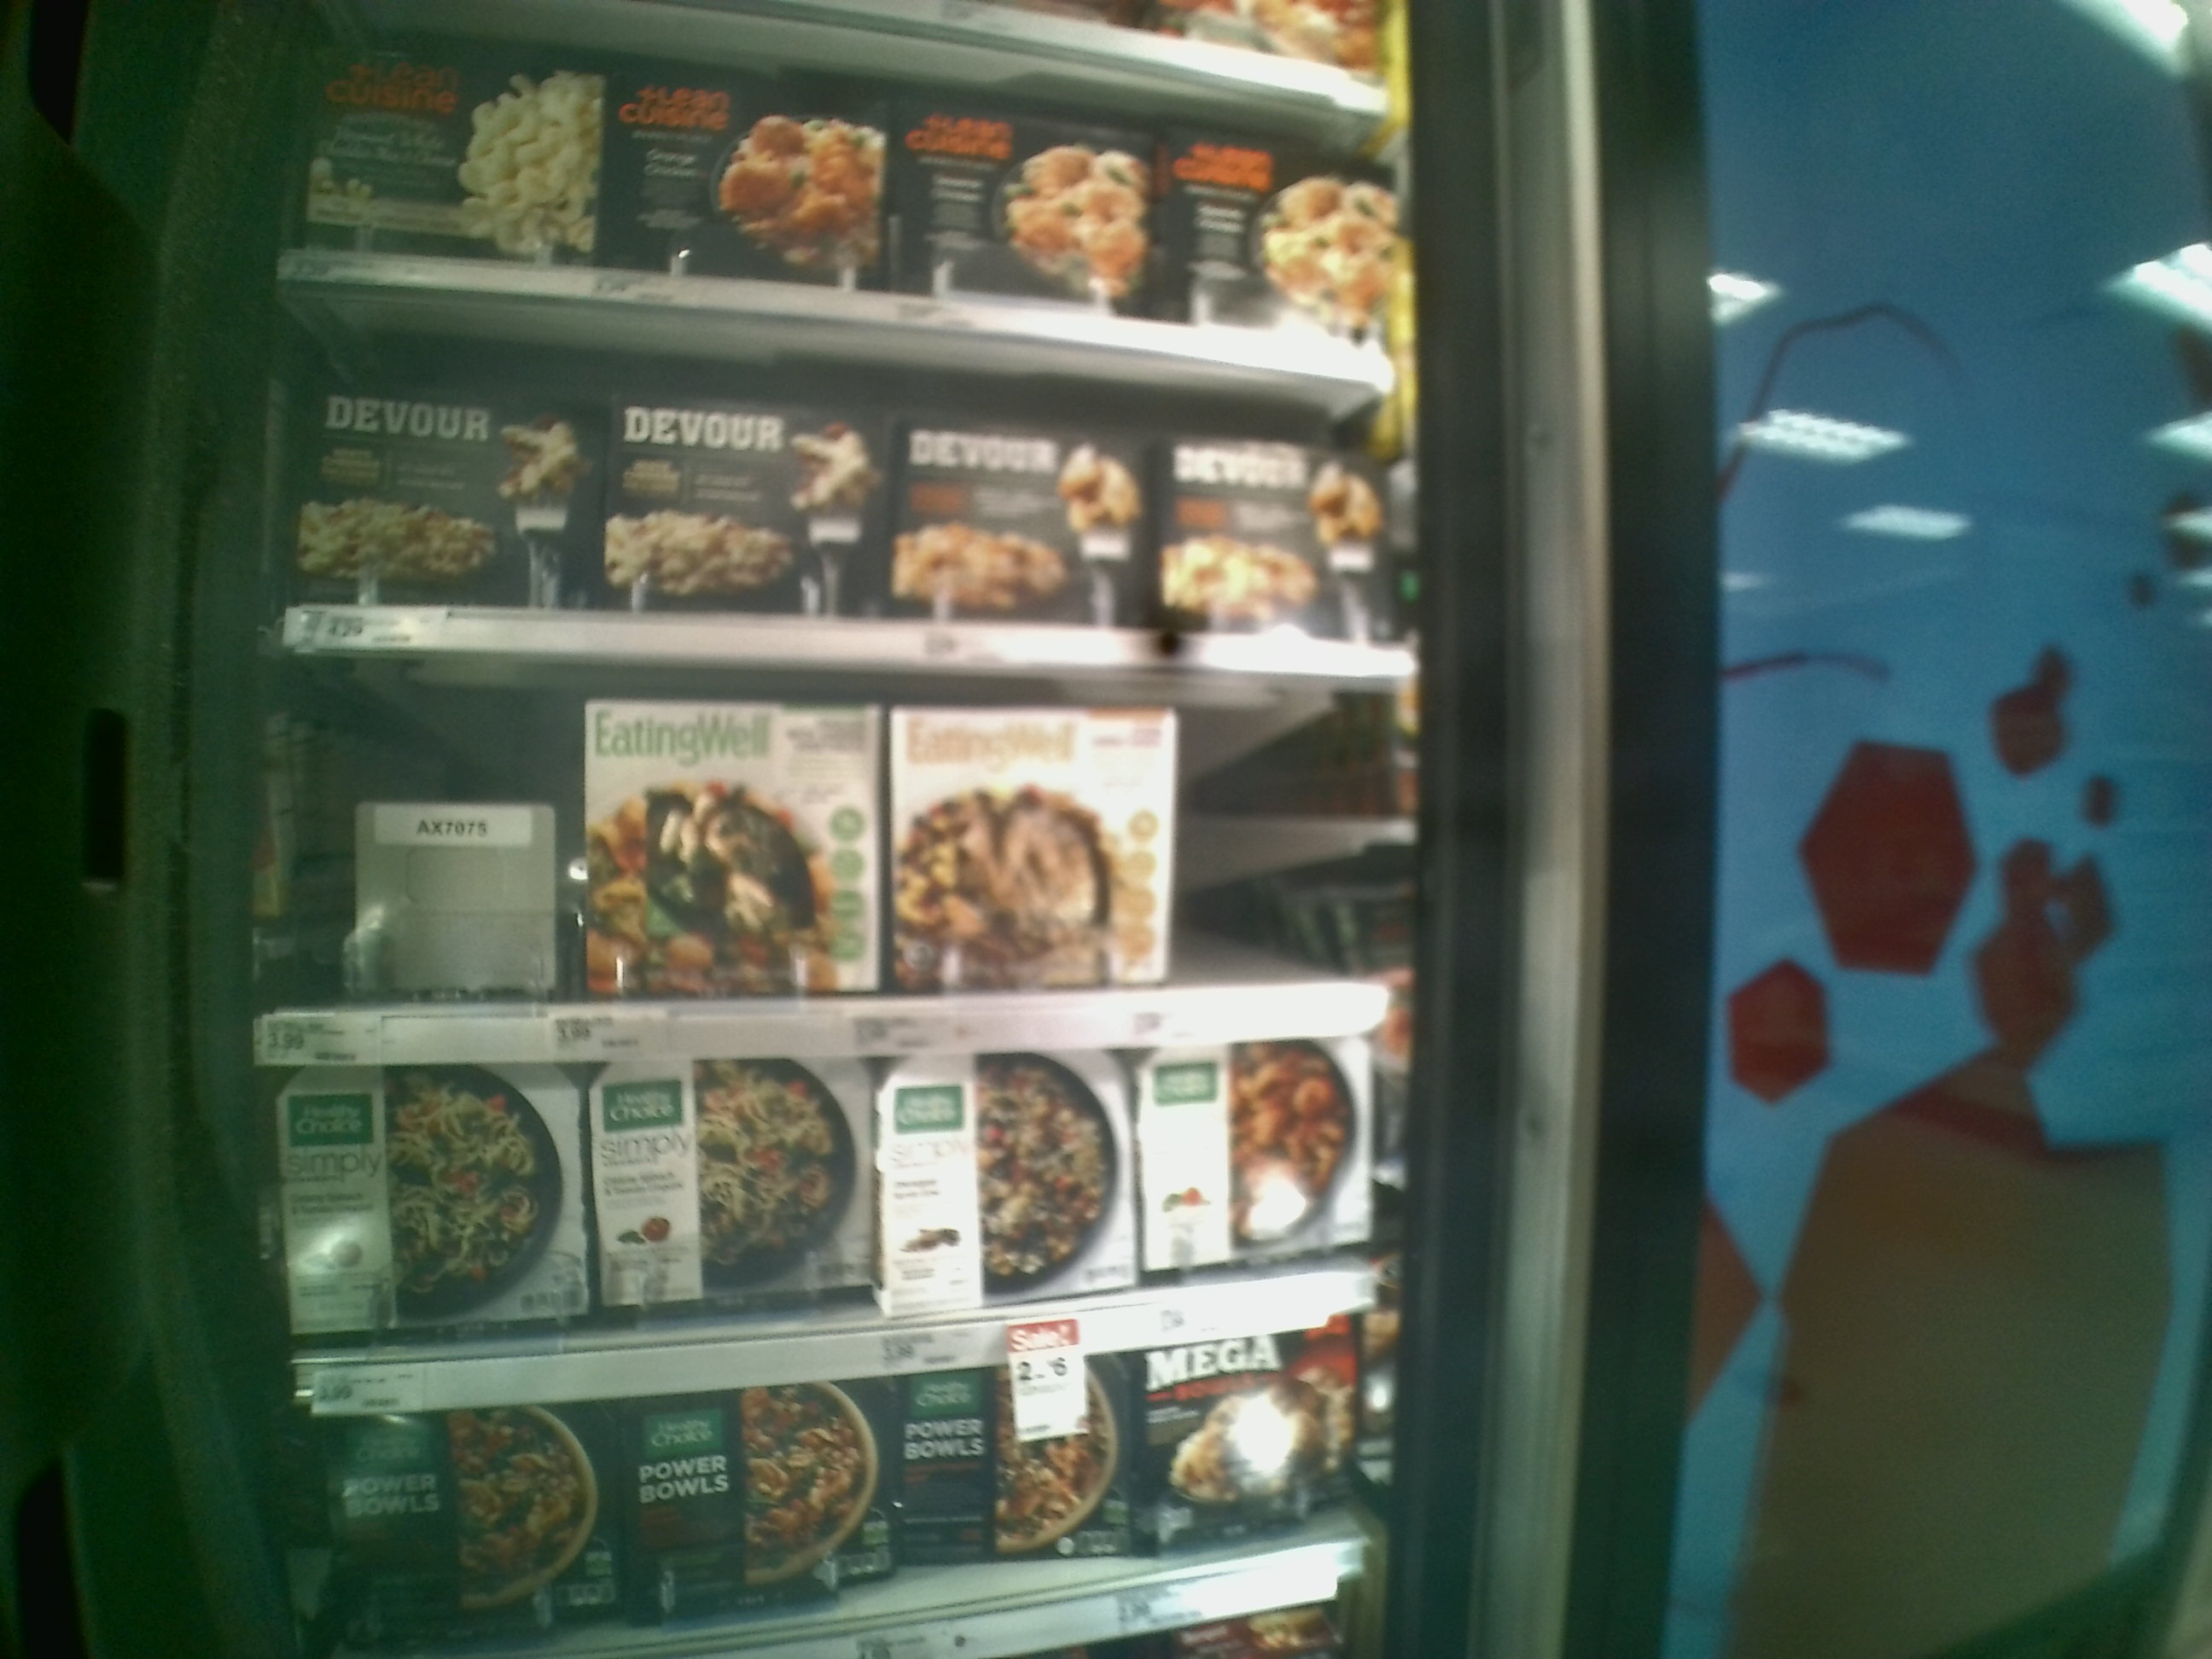shelf: (263, 641, 1400, 1054), (268, 275, 1399, 676), (261, 1035, 1433, 1413)
